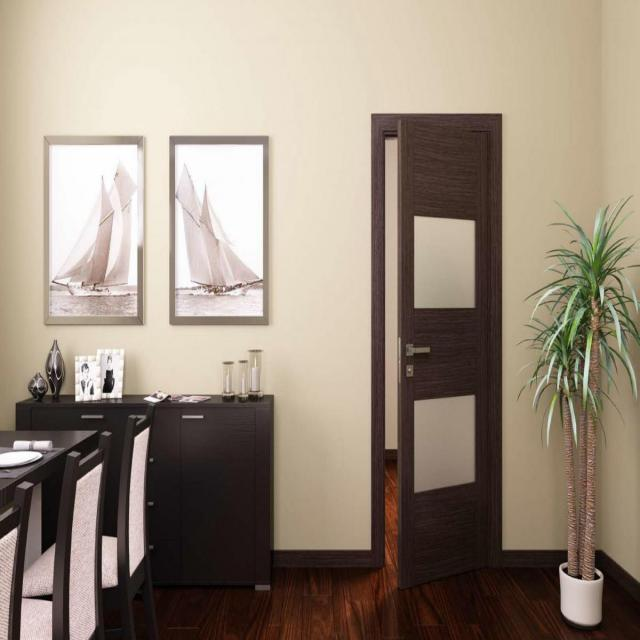open: (372, 117, 507, 585)
